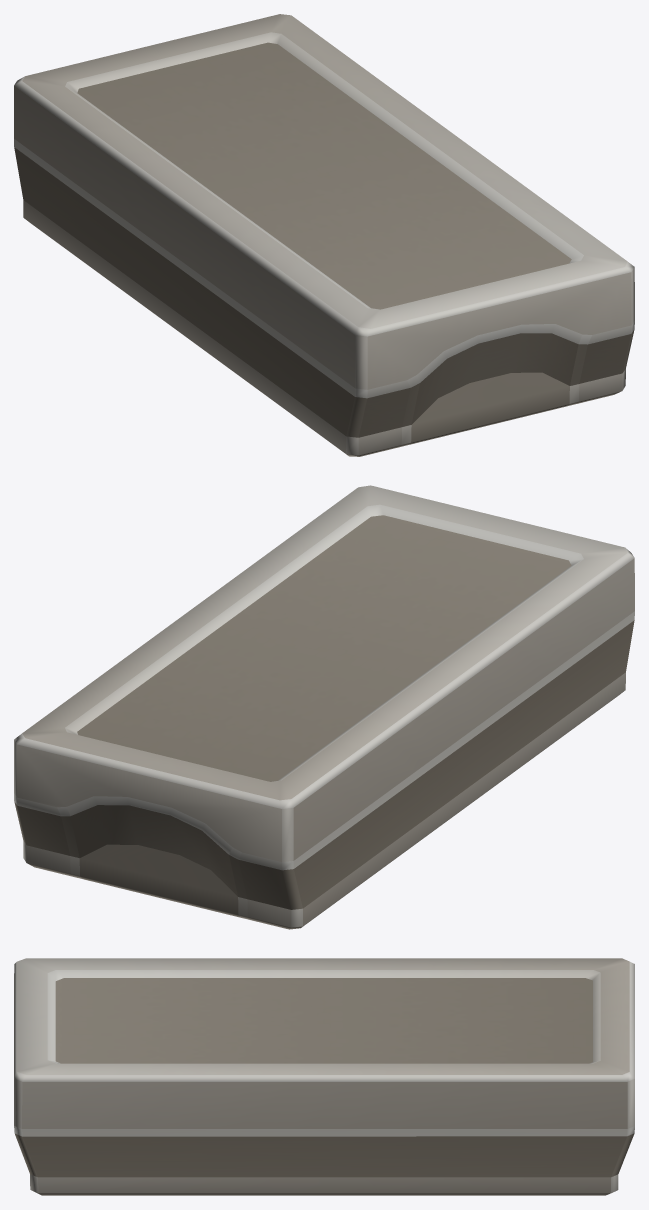
File: appartment_type1_roof_type1_x2_flat.fbx
The picture shows the model from 3 angles, top to bottom: view 1: azimuth 30°, elevation 25°; view 2: azimuth 150°, elevation 25°; view 3: azimuth 270°, elevation 25°; orthographic projection. The views are drawn at different scales.
Visible parts, largest first — view 1: appartment_type1_roof_type1_x2_flat; view 2: appartment_type1_roof_type1_x2_flat; view 3: appartment_type1_roof_type1_x2_flat.
Part boxes in pixels (box(x1,y1,x2,y2)): appartment_type1_roof_type1_x2_flat: box(14, 14, 634, 456); appartment_type1_roof_type1_x2_flat: box(14, 485, 634, 929); appartment_type1_roof_type1_x2_flat: box(14, 958, 634, 1195).
Bounding box in the file's own units: 400 × 186 × 867.
